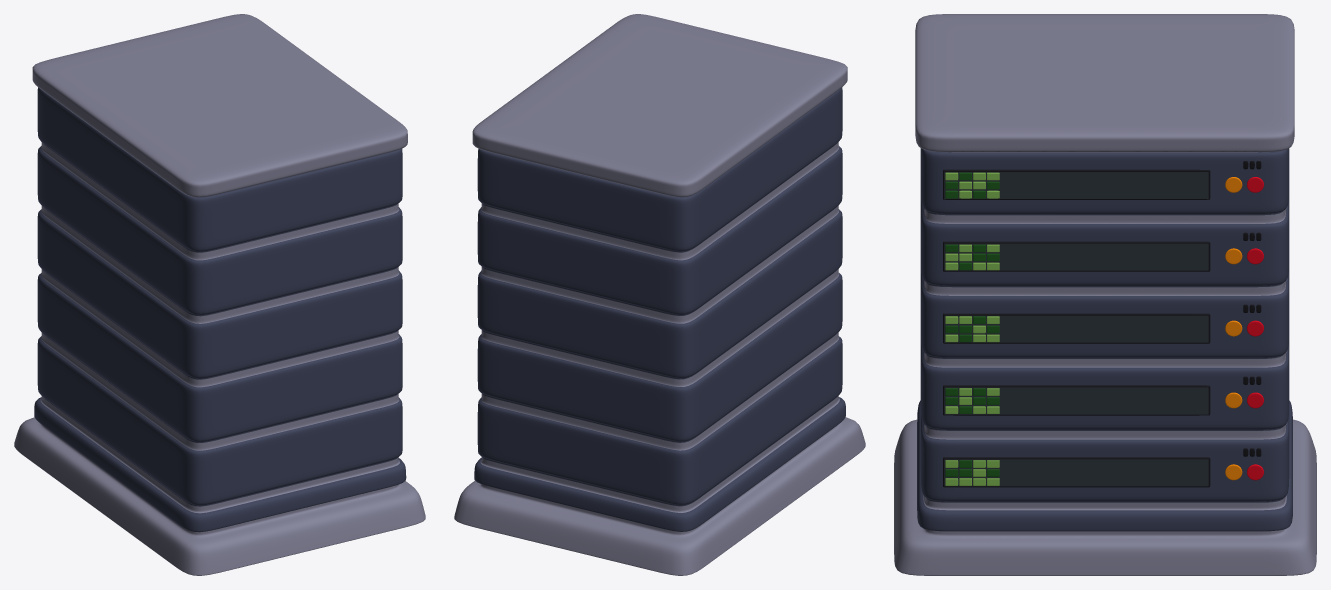
File: CoreSwitch.glb
3 renders of one model, left to right at view 1: azimuth 30°, elevation 25°; view 2: azimuth 150°, elevation 25°; view 3: azimuth 270°, elevation 25°, orthographic. The views are drawn at different scales.
Visible parts, largest first — view 1: Server 1.001; view 2: Server 1.001; view 3: Server 1.001.
Boxes of the visible parts, box(x1,y1,x2,y2) form: Server 1.001: box(14, 14, 425, 575); Server 1.001: box(454, 14, 865, 575); Server 1.001: box(894, 14, 1316, 575).
Size of the model in its own units: 2.6 by 3.96 by 3.48.
